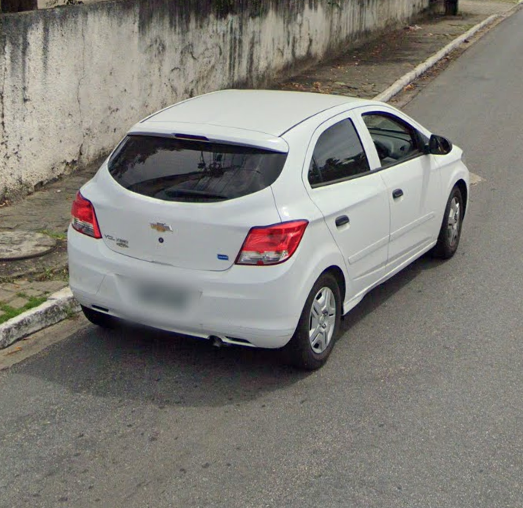car: (65, 85, 472, 376)
